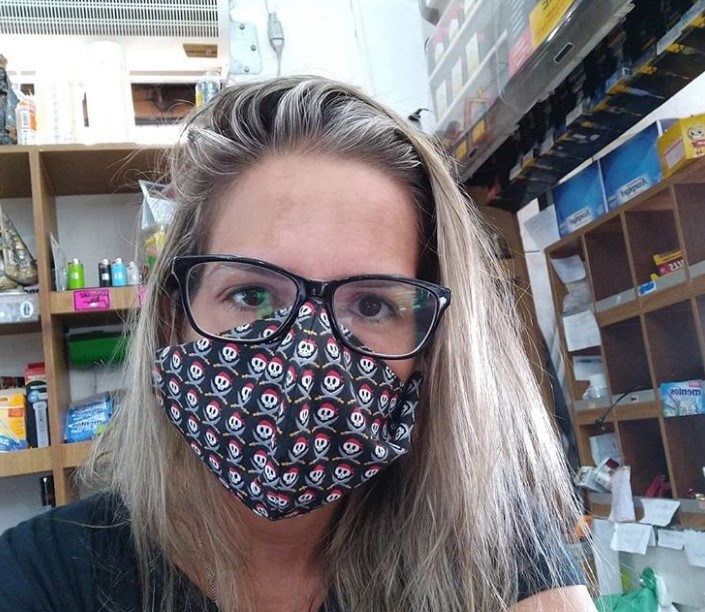face_with_mask: (148, 122, 461, 525)
